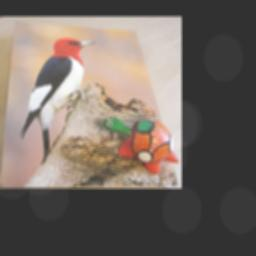Woodpecker: (19, 36, 96, 166)
